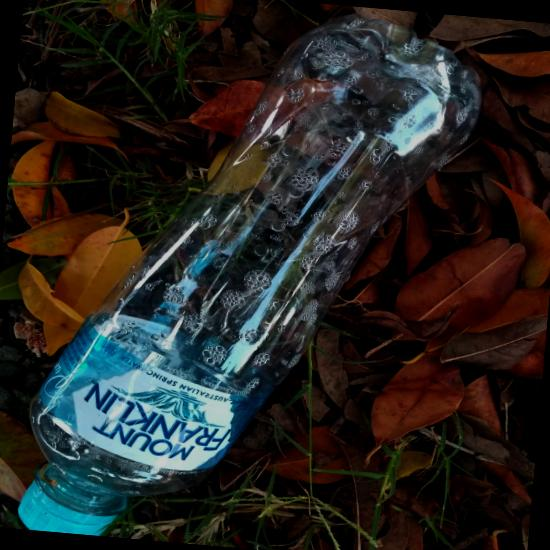Clear plastic bottle: (332, 125, 369, 143), (102, 88, 137, 101), (142, 77, 159, 87)
Disposable plastic cup: (134, 77, 149, 86), (204, 34, 216, 40)
Plastic utensils: (146, 104, 170, 108)
Unlabeled litter: (67, 11, 87, 17), (310, 60, 327, 66), (199, 120, 211, 128), (180, 9, 198, 11), (23, 0, 27, 2)
